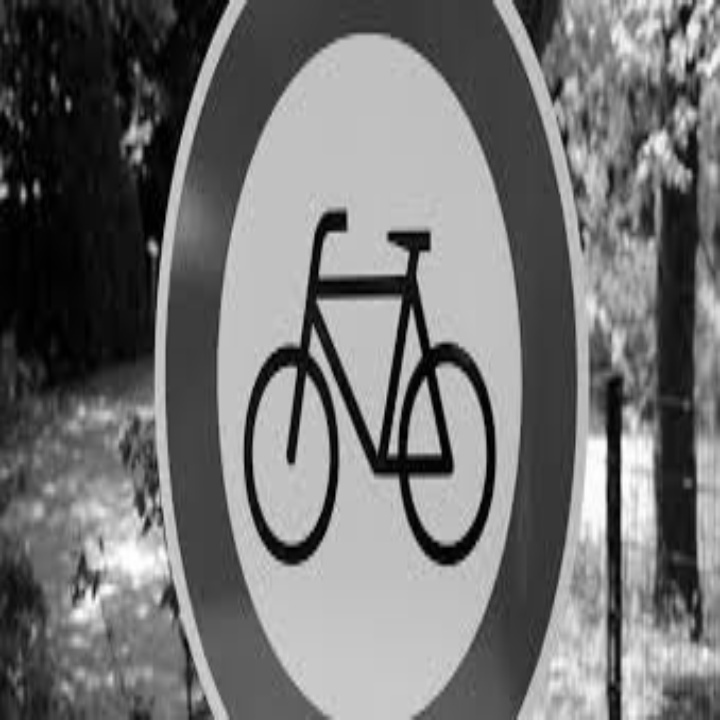bicycle: (197, 201, 577, 581)
